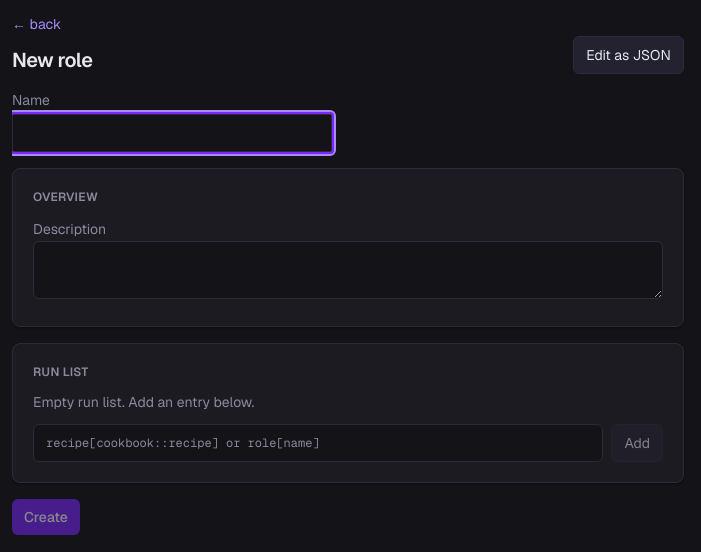
Test: CreateObjectForm › disables Create until a valid name is entered
The width and height of the screenshot is (701, 552).
Expected: the button "Create" is disabled, left=12, top=499, right=80, bottom=535
Type "web" into the field labelled "Name" at (172, 133), box left=12, top=114, right=332, bottom=152
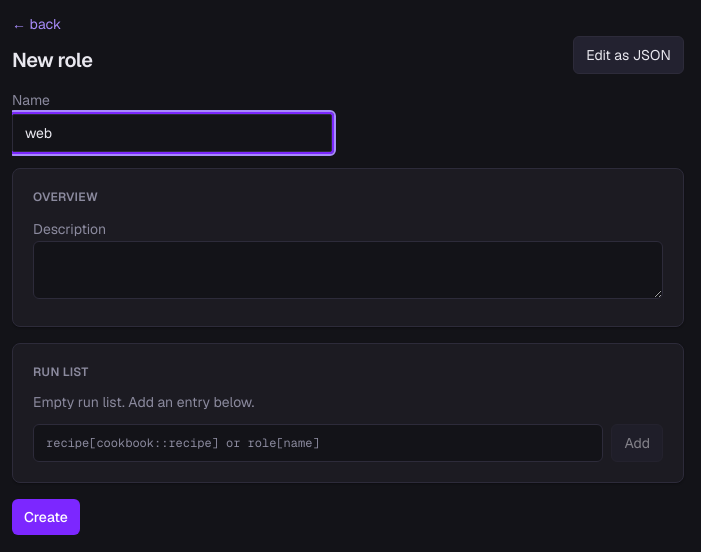
Now the button "Create" is enabled, box left=12, top=499, right=80, bottom=535
